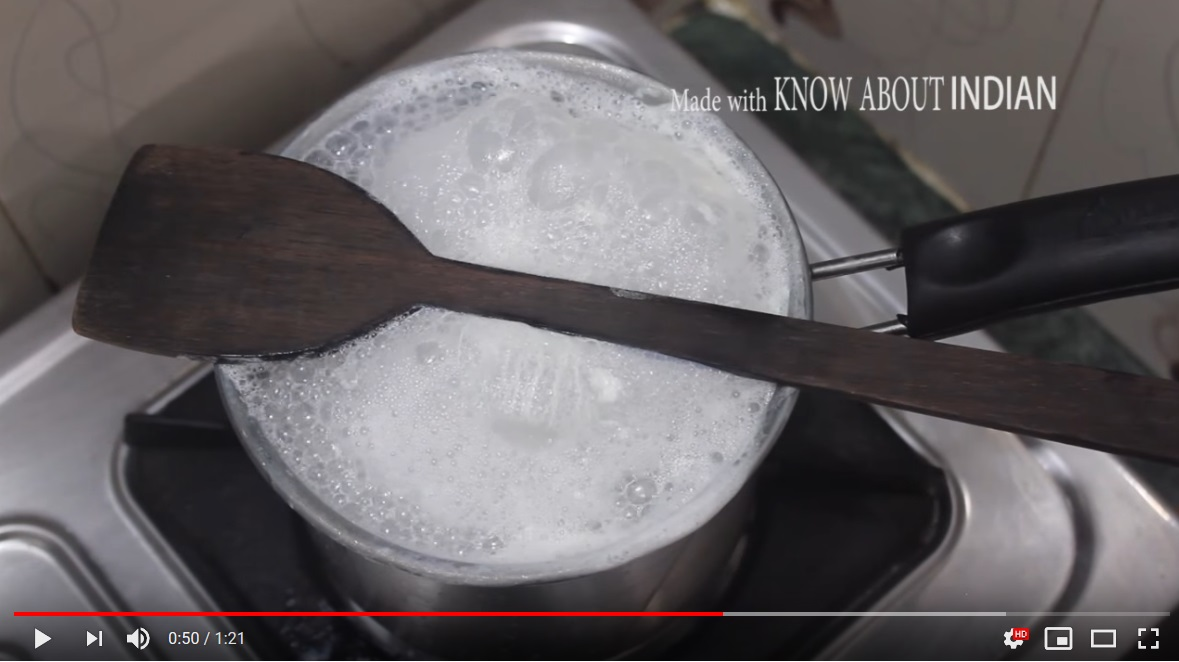Boiled: (218, 41, 814, 588)
